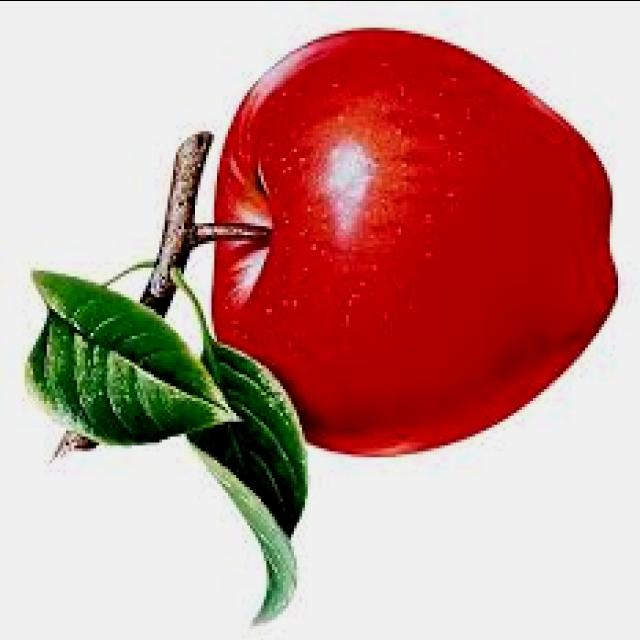non_orange: (157, 0, 640, 529)
